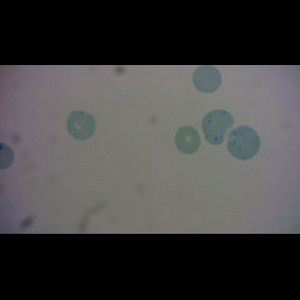erythrocyte: (191, 65, 224, 94), (173, 125, 201, 155)
punctate reticulocyte: (201, 109, 236, 146), (226, 125, 260, 161), (66, 110, 97, 140)
